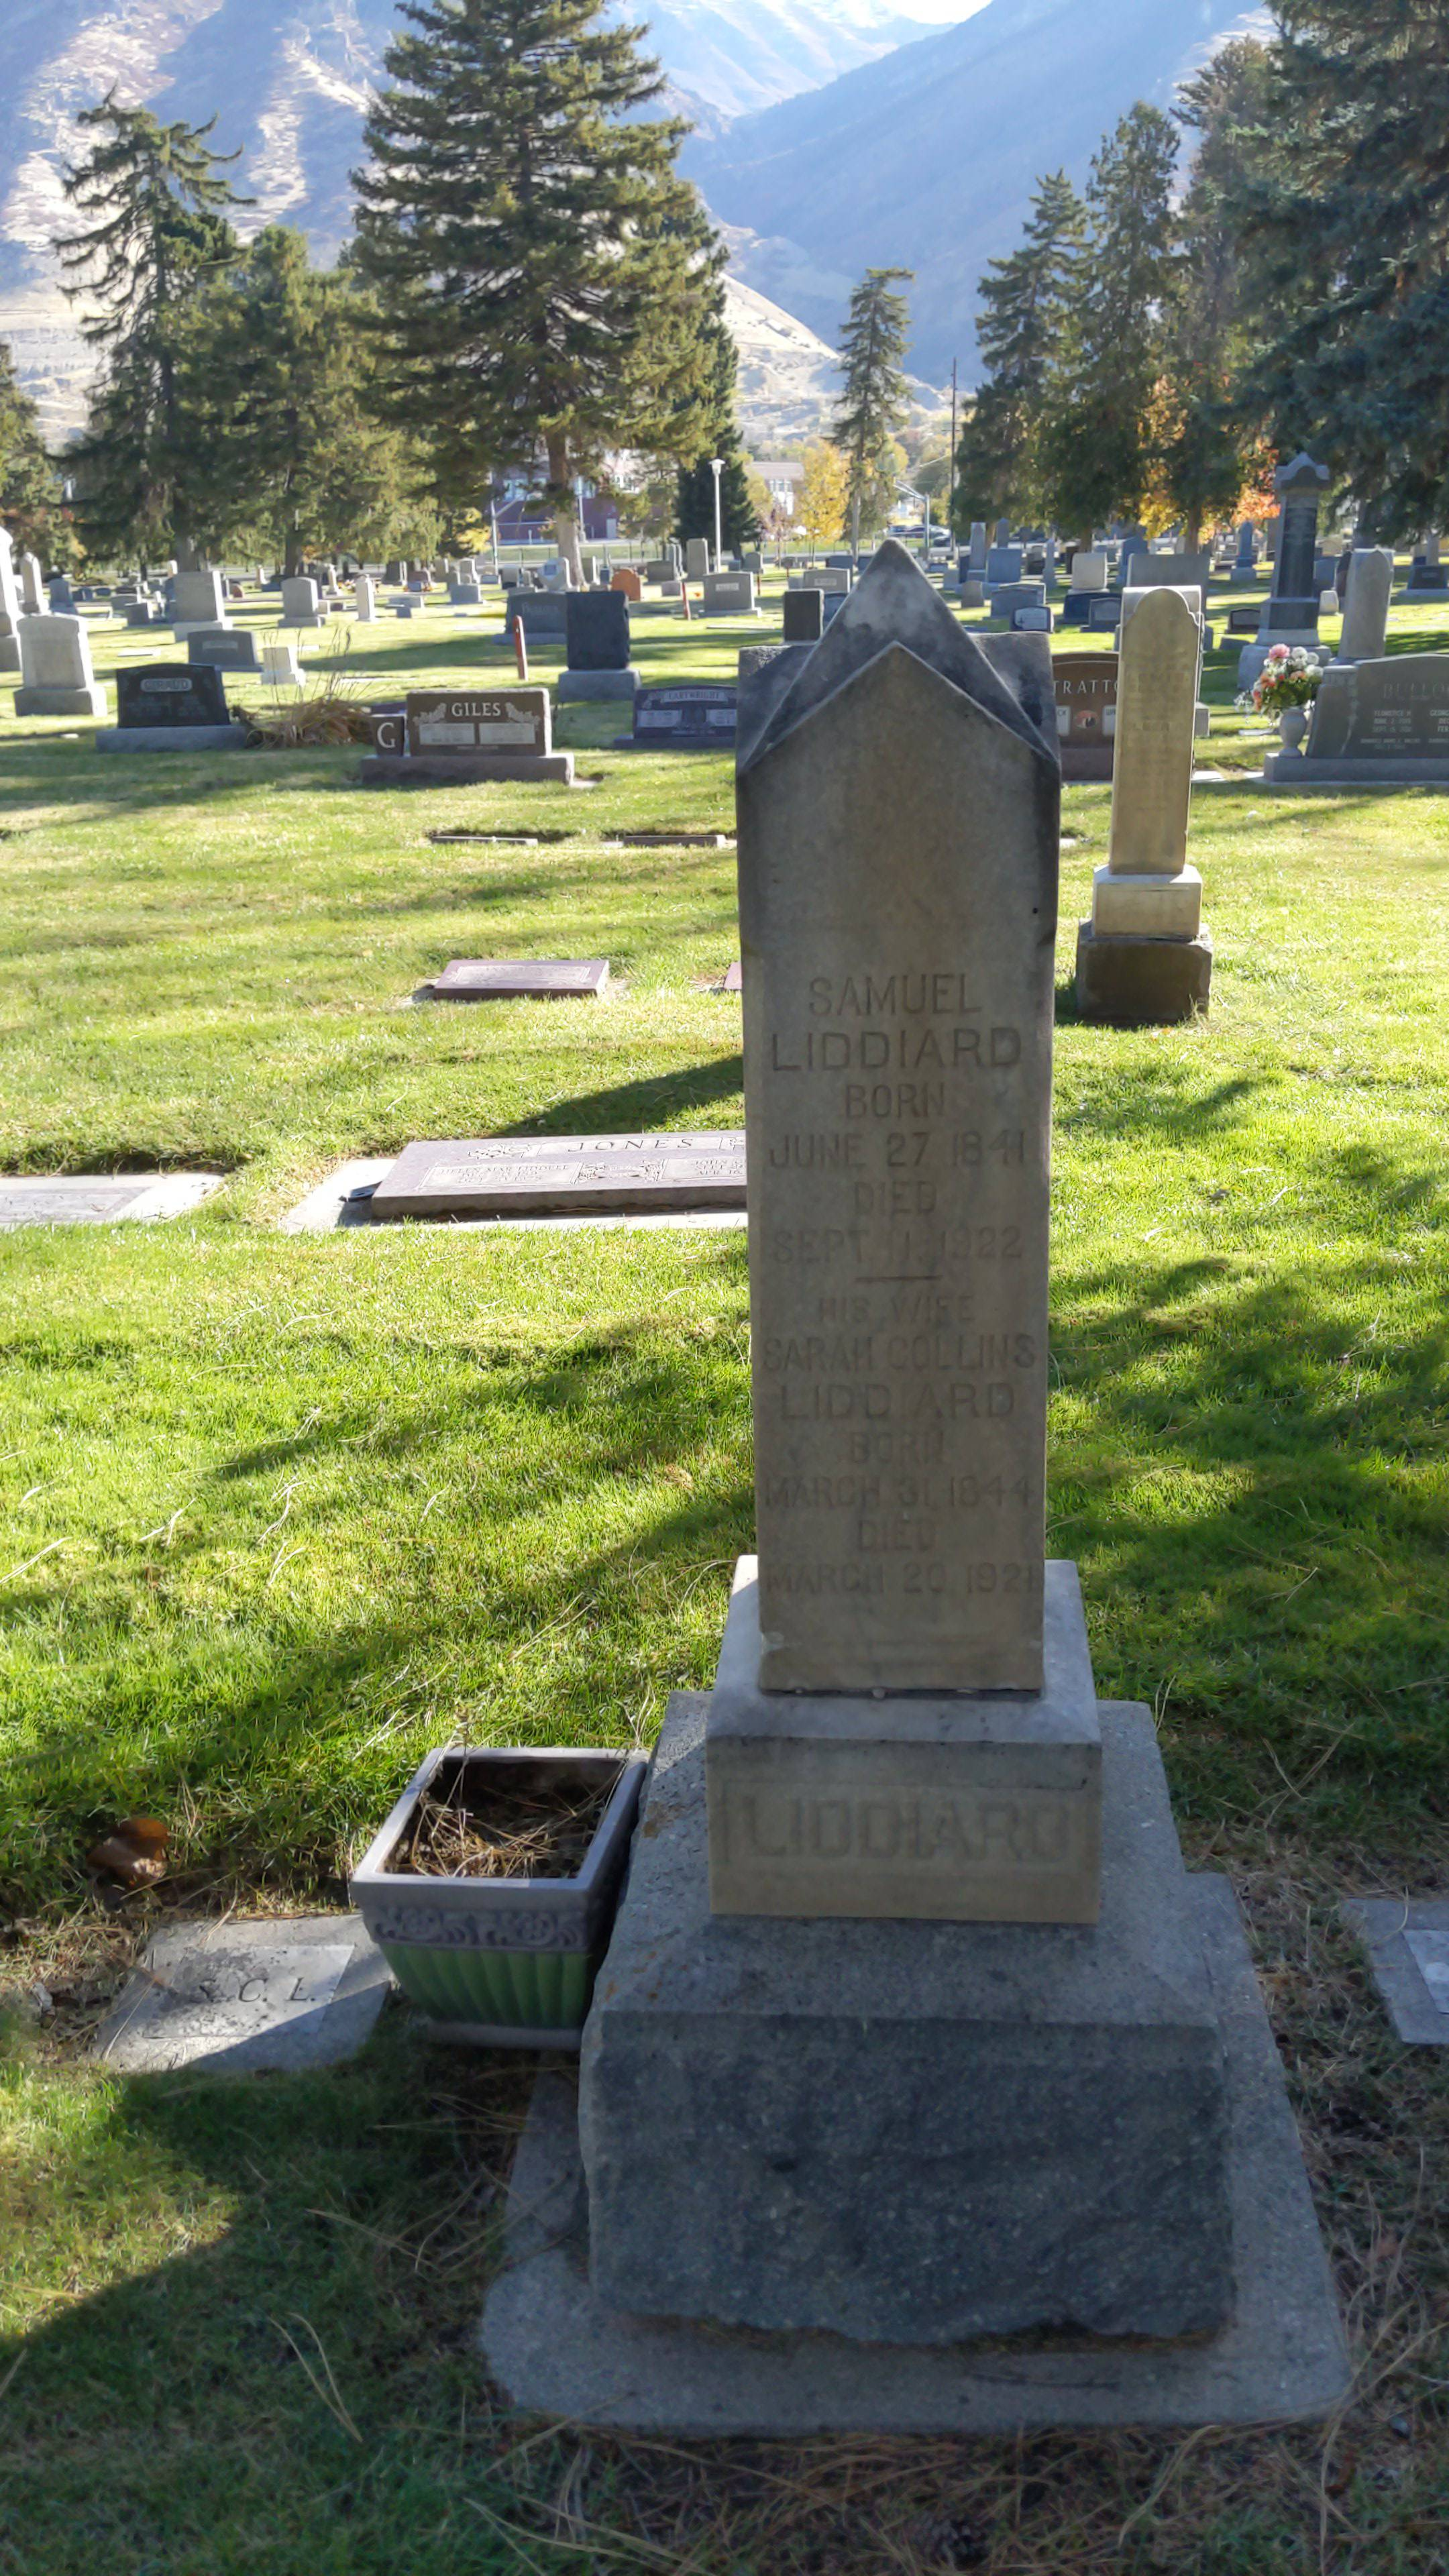obelisk: (695, 536, 1097, 1921)
